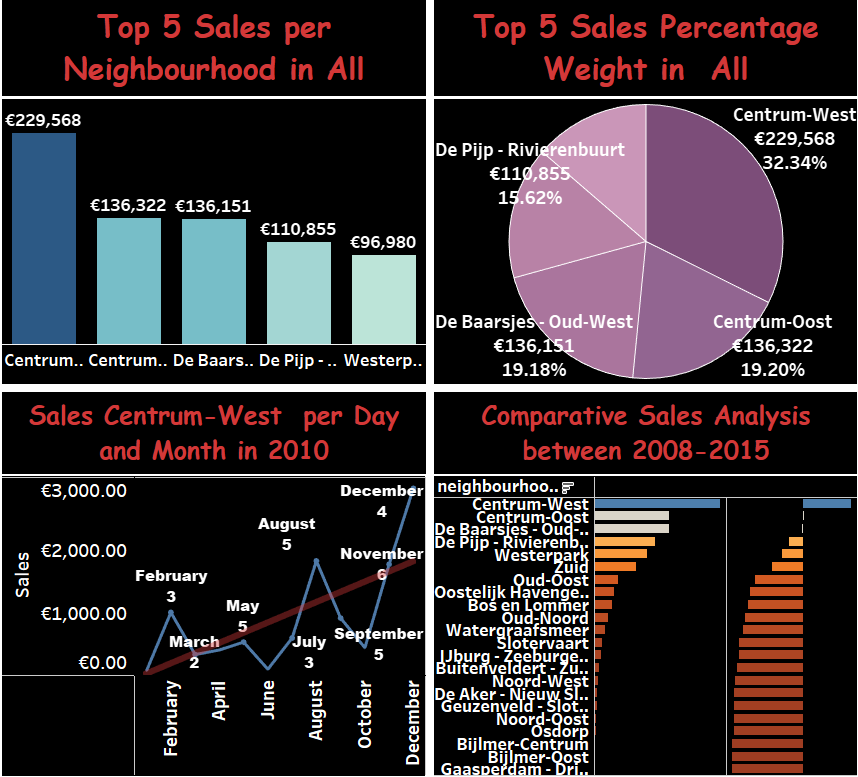

Layout of this report page (visuals, bound fields, positions):
{"tool":"tableau","page":{"name":"Dashboard 1","canvas":[1000,800],"ordinal":0},"visuals":[{"type":"worksheet","title":"Sales per Neighbourhood Per Year","mark":"Automatic","rows":["price (Dim_Place)"],"cols":["neighbourhood_cleansed (Dim_Place)"],"box":[8,8,431.5,392]},{"type":"worksheet","title":"Sales Percentage Weight by Years","mark":"Pie","box":[439.5,8,431.5,392]},{"type":"filter","title":"Sales per Neighbourhood Per Year","param":"[federated.1hpc0jl11zan8b1885k2q1b3d1oi].[none:Year_:ok]","box":[871,8,121,91]},{"type":"filter","title":"Sales per Neighbourhood Per Year","param":"[federated.1hpc0jl11zan8b1885k2q1b3d1oi].[none:neighbourhood_cleansed (Dim_Place","box":[871,99,121,153]},{"type":"filter","title":"Sales Percentage Weight by Years","param":"[federated.1hpc0jl11zan8b1885k2q1b3d1oi].[none:Year_:ok]","box":[871,252,121,93]},{"type":"filter","title":"Sales per Day and Month by Years","param":"[federated.1hpc0jl11zan8b1885k2q1b3d1oi].[yr:FullDate:ok]","box":[871,345,121,93]},{"type":"worksheet","title":"Sales per Day and Month by Years","mark":"Line","rows":["price (Dim_Place)"],"cols":["neighbourhood_cleansed (Dim_Place)","FullDate","FullDate"],"box":[8,400,431.5,392]},{"type":"worksheet","title":"Comprative Sales Analysis between 2008-2015","mark":"Automatic","rows":["neighbourhood_cleansed (Dim_Place)"],"cols":["price (Dim_Place)","Calculation_2042100963544813574"],"box":[439.5,400,431.5,392]},{"type":"filter","title":"Sales per Day and Month by Years","param":"[federated.1hpc0jl11zan8b1885k2q1b3d1oi].[none:neighbourhood_cleansed (Dim_Place","box":[871,438,121,62]},{"type":"parameter","param":"[Parameters].[Parameter 2]","box":[871,500,121,56]}]}

Visuals, with their boxes on the page's 1000x800 design canvas (x1, y1, x2, y2). These are canvas units, not pixel positions in the 858x777 screenshot, which may show the page scaled, cropped or inside an application window:
"Sales per Neighbourhood Per Year" worksheet: 8 8 440 400
"Sales Percentage Weight by Years" worksheet (Pie marks): 440 8 871 400
"Sales per Neighbourhood Per Year" filter: 871 8 992 99
"Sales per Neighbourhood Per Year" filter: 871 99 992 252
"Sales Percentage Weight by Years" filter: 871 252 992 345
"Sales per Day and Month by Years" filter: 871 345 992 438
"Sales per Day and Month by Years" worksheet (Line marks): 8 400 440 792
"Comprative Sales Analysis between 2008-2015" worksheet: 440 400 871 792
"Sales per Day and Month by Years" filter: 871 438 992 500
parameter: 871 500 992 556
